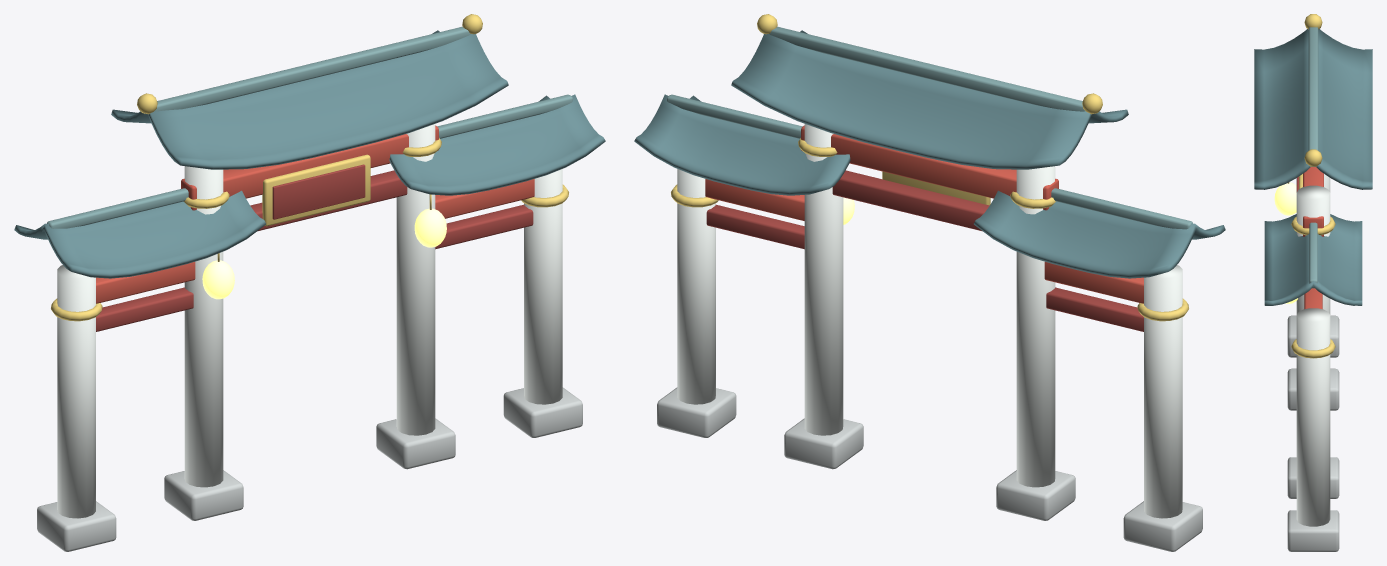
The model's file is sky_gate.glb.
3 views of the same model, side by side, from view 1: azimuth 30°, elevation 25°; view 2: azimuth 150°, elevation 25°; view 3: azimuth 270°, elevation 25° (orthographic). The views are drawn at different scales.
Visible parts, largest first — view 1: RoofC, RoofS, RoofS.001, Pillar.002, Pillar.001, Pillar, Pillar.003, RidgeC, BeamC1, PlaqueIn, Base.002, Base.003 (+12 smaller); view 2: RoofC, RoofS, RoofS.001, Pillar.002, Pillar.001, Pillar, Pillar.003, BeamC1, RidgeC, BeamC2, Base.002, Base.003 (+9 smaller); view 3: RoofC, Pillar.003, RoofS.001, Base.003, Pillar.002, RidgeC, Base.001, Base.002, Base, Lamp, BeamC1, RidgeS.001 (+5 smaller).
Part boxes in pixels (x1,y1,x2,y2): RoofC: (111, 30, 508, 169); RoofS: (14, 190, 265, 278); RoofS.001: (389, 94, 605, 195); Pillar.002: (396, 124, 435, 435); Pillar.001: (184, 166, 223, 487); Pillar: (57, 265, 95, 518); Pillar.003: (524, 169, 562, 404); RidgeC: (155, 26, 470, 111); BeamC1: (181, 125, 438, 210); PlaqueIn: (272, 164, 365, 219); Base.002: (376, 418, 455, 469); Base.003: (503, 387, 582, 437); RoofC: (731, 30, 1128, 169); RoofS: (974, 190, 1225, 278); RoofS.001: (634, 94, 850, 195); Pillar.002: (804, 124, 843, 435); Pillar.001: (1016, 166, 1055, 487); Pillar: (1144, 265, 1182, 518); Pillar.003: (677, 169, 715, 404); BeamC1: (801, 125, 1058, 210); RidgeC: (769, 26, 1085, 111); BeamC2: (832, 170, 989, 231); Base.002: (784, 418, 863, 469); Base.003: (657, 387, 736, 437); RoofC: (1254, 29, 1372, 189); Pillar.003: (1296, 308, 1330, 526); RoofS.001: (1264, 214, 1362, 305); Base.003: (1287, 510, 1339, 551); Pillar.002: (1296, 185, 1330, 314); RidgeC: (1308, 27, 1318, 166); Base.001: (1287, 368, 1339, 410); Base.002: (1287, 457, 1339, 498); Base: (1287, 315, 1339, 357); Lamp: (1274, 182, 1296, 215); BeamC1: (1303, 167, 1323, 236); RidgeS.001: (1309, 222, 1317, 288).
Size of the model in its own units: 7.56 by 5.75 by 1.7.
